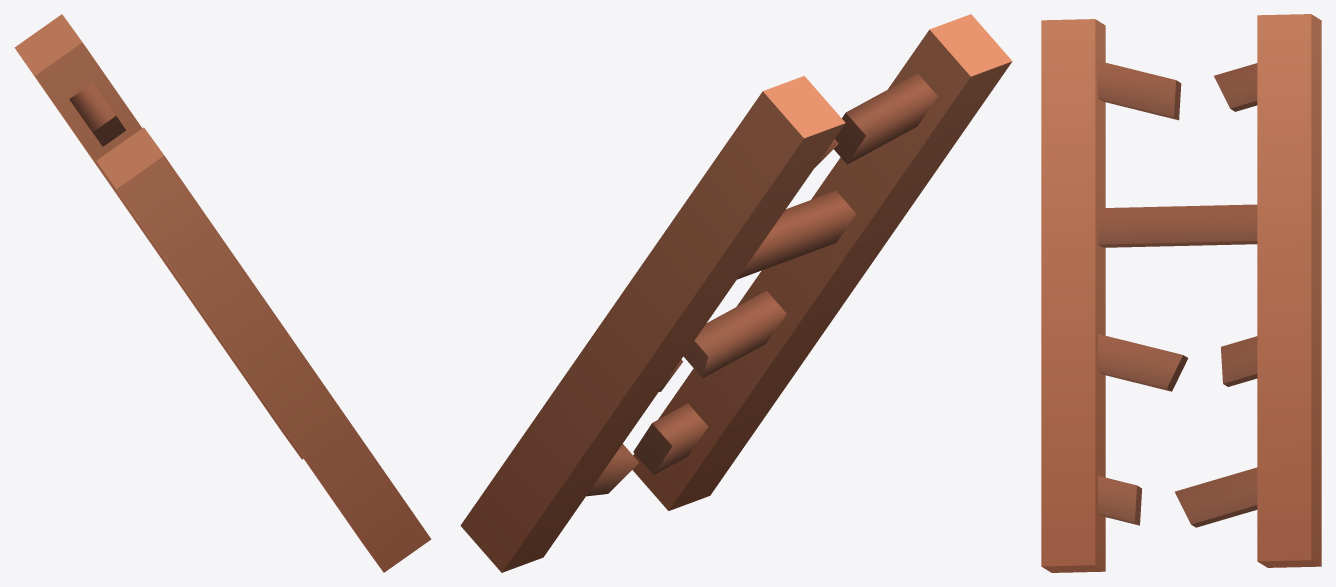
The model's file is n5_n5_n5_ladder-broken_lev5.glb.
3 renders of one model, left to right at view 1: azimuth 30°, elevation 25°; view 2: azimuth 150°, elevation 25°; view 3: azimuth 270°, elevation 25°, orthographic. The views are drawn at different scales.
Parts seen in each view (by area): view 1: n5_n5_n5_ladder-broken_lev5; view 2: n5_n5_n5_ladder-broken_lev5; view 3: n5_n5_n5_ladder-broken_lev5.
Part boxes in pixels (bbox=[...]): n5_n5_n5_ladder-broken_lev5: bbox=[14, 14, 431, 572]; n5_n5_n5_ladder-broken_lev5: bbox=[460, 14, 1012, 572]; n5_n5_n5_ladder-broken_lev5: bbox=[1041, 14, 1321, 572].
Bounding box in the file's own units: 1.58 × 2.17 × 1.16.
Materials: 1 (1 with a texture image).
